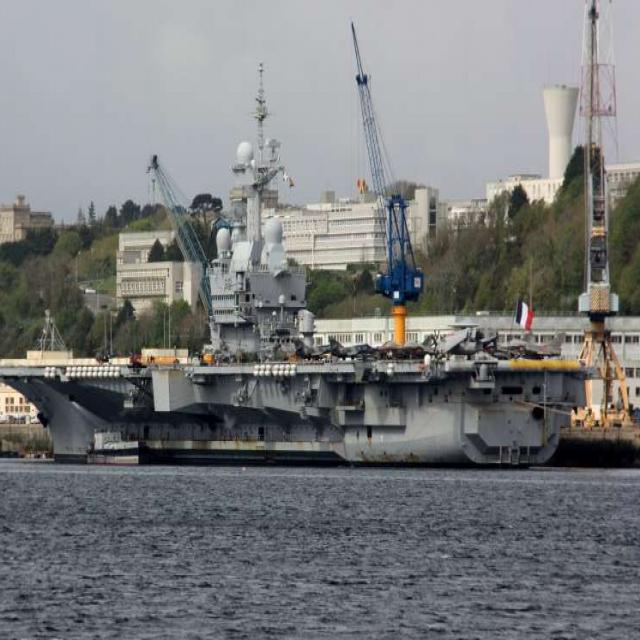Portanaves: (1, 101, 591, 475)
